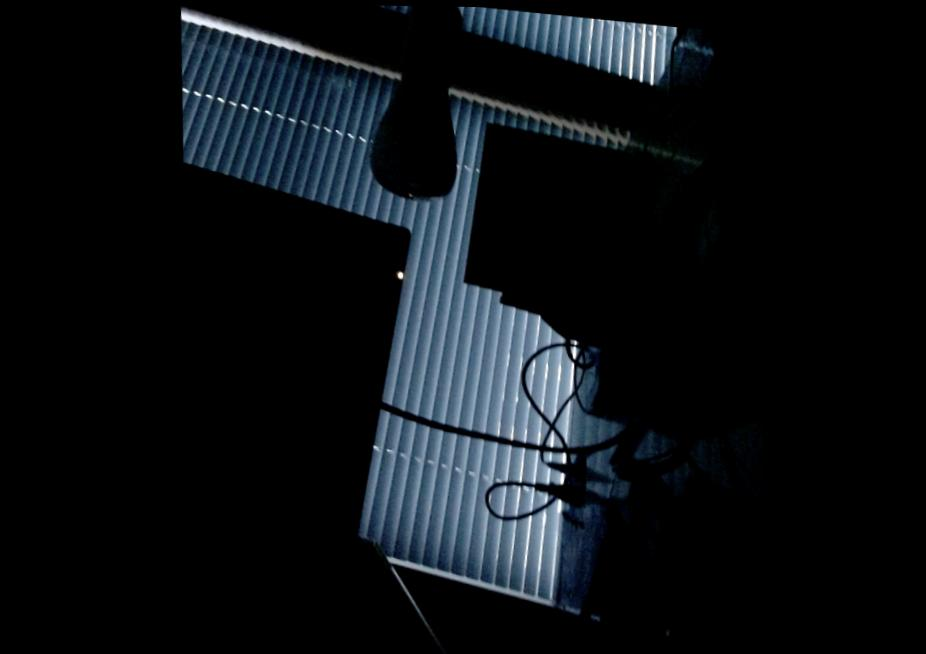Fan: (354, 69, 463, 203)
